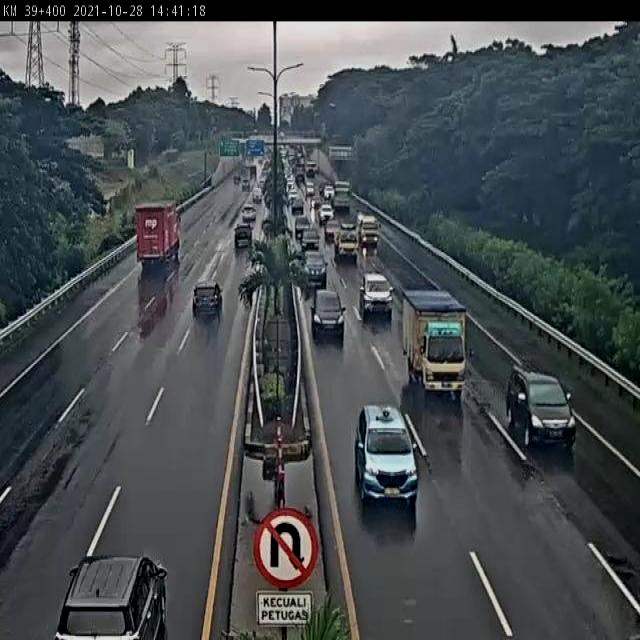Car: (53, 554, 169, 638), (500, 359, 583, 452), (354, 402, 418, 514), (310, 289, 346, 344), (358, 272, 394, 321), (192, 282, 223, 320), (302, 250, 327, 287), (337, 227, 359, 260), (300, 227, 321, 251), (234, 221, 252, 248), (294, 215, 310, 240)
Truck: (399, 292, 476, 399), (132, 193, 182, 282), (350, 212, 385, 259)
